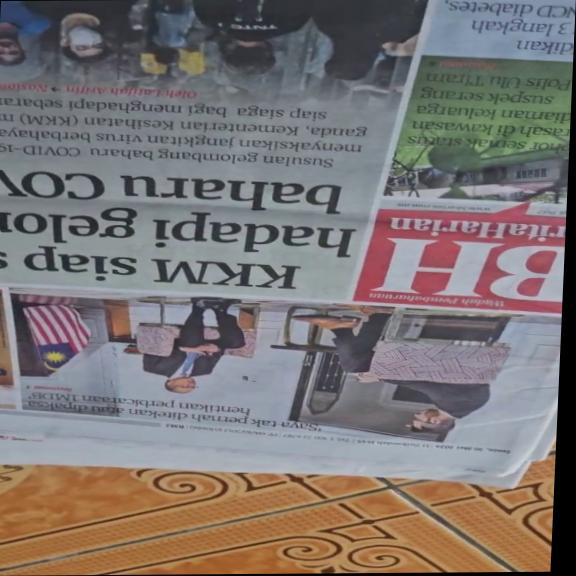Kertas: (0, 10, 575, 490)
